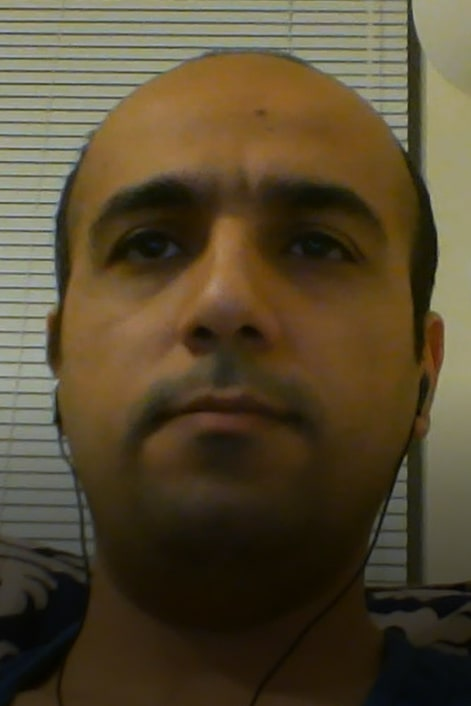Not Sleeping: (88, 178, 389, 303)
